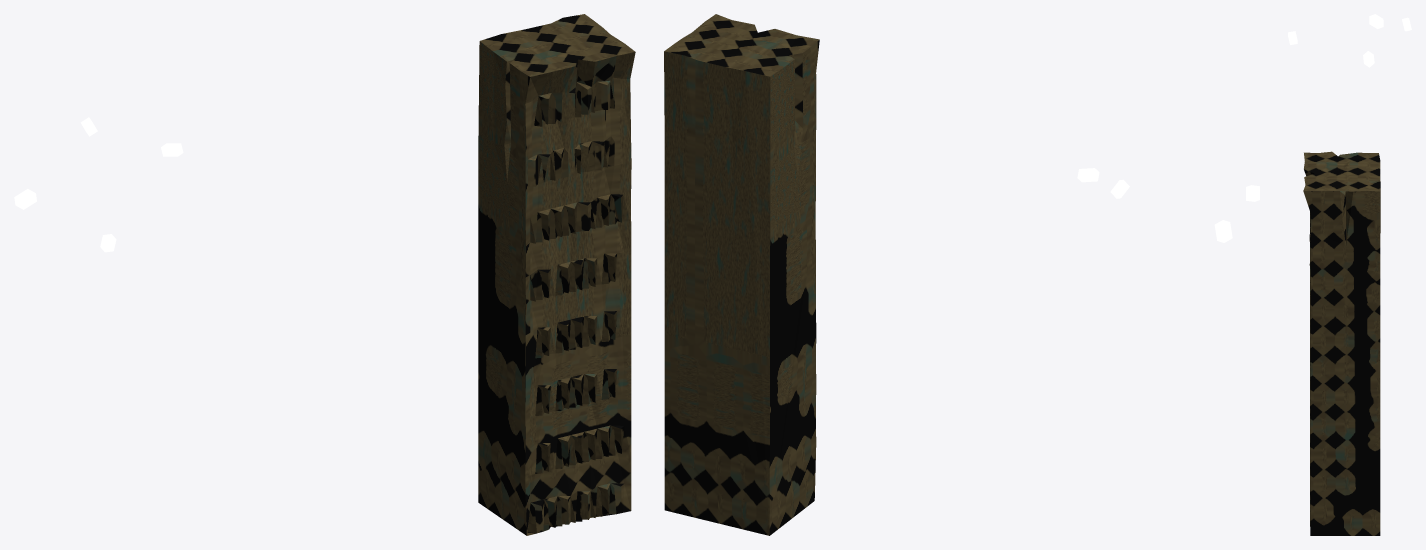
Rendered from data_monolith_r3_v3.glb.
3 renders of one model, left to right at view 1: azimuth 30°, elevation 25°; view 2: azimuth 150°, elevation 25°; view 3: azimuth 270°, elevation 25°, orthographic. The views are drawn at different scales.
Visible parts, largest first — view 1: data_monolith_lp; view 2: data_monolith_lp; view 3: data_monolith_lp, data_frag_1.
Boxes of the visible parts, x1,y1,x2,y2 form: data_monolith_lp: [478, 14, 635, 535]; data_monolith_lp: [664, 14, 819, 535]; data_monolith_lp: [1303, 151, 1380, 535]; data_frag_1: [1369, 14, 1383, 28].
Size of the model in its own units: 6.47 by 5.02 by 1.63.
2 materials, 1 textured.
